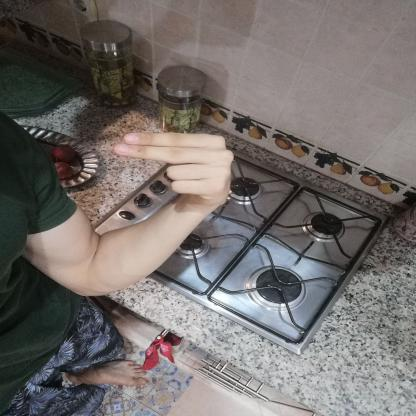AYN: (104, 122, 244, 212)
